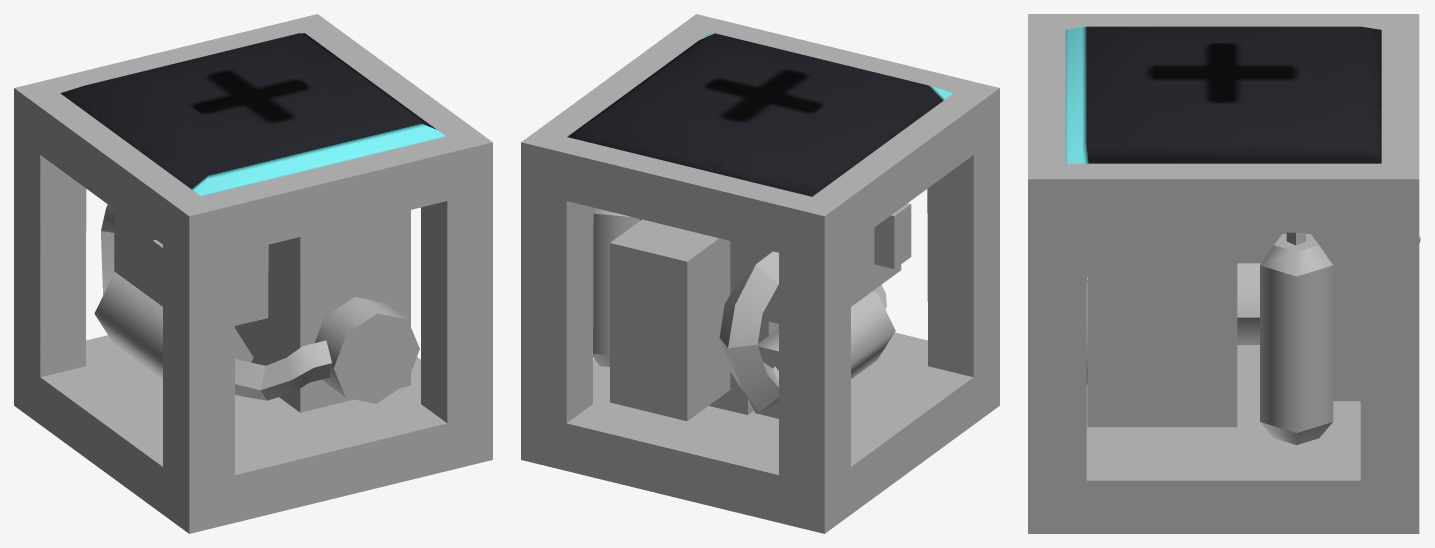
File: nick_MathBlock_off.dae
The picture shows the model from 3 angles, left to right: view 1: azimuth 30°, elevation 25°; view 2: azimuth 150°, elevation 25°; view 3: azimuth 270°, elevation 25°; orthographic projection. The views are drawn at different scales.
Visible parts, largest first — view 1: obj_logicgate_off; view 2: obj_logicgate_off; view 3: obj_logicgate_off.
Part boxes in pixels (bbox=[...]): obj_logicgate_off: bbox=[14, 14, 492, 533]; obj_logicgate_off: bbox=[521, 14, 999, 533]; obj_logicgate_off: bbox=[1028, 14, 1420, 533].
Bounding box in the file's own units: 1 × 1 × 1.06.
